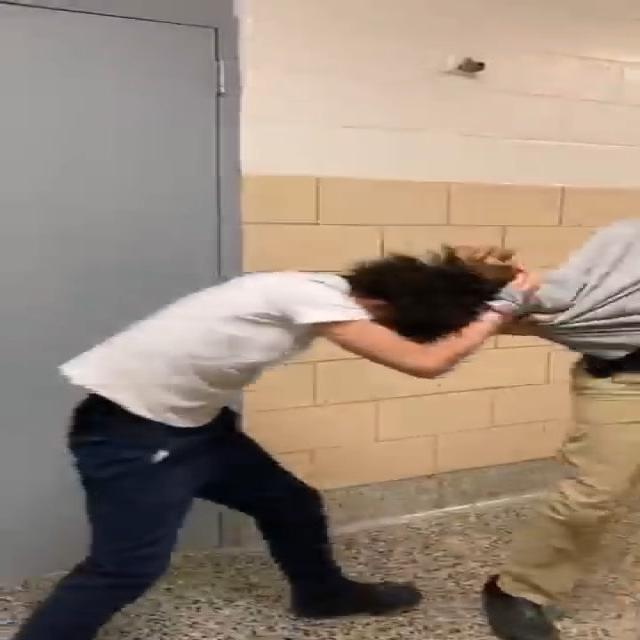fight: (51, 250, 630, 640)
